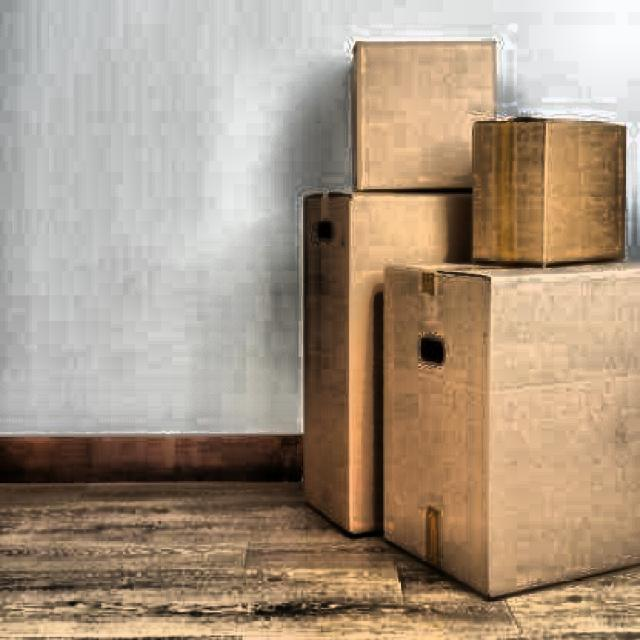Cardbox: (294, 153, 560, 543), (379, 235, 640, 608), (454, 109, 626, 284), (346, 26, 524, 181)
